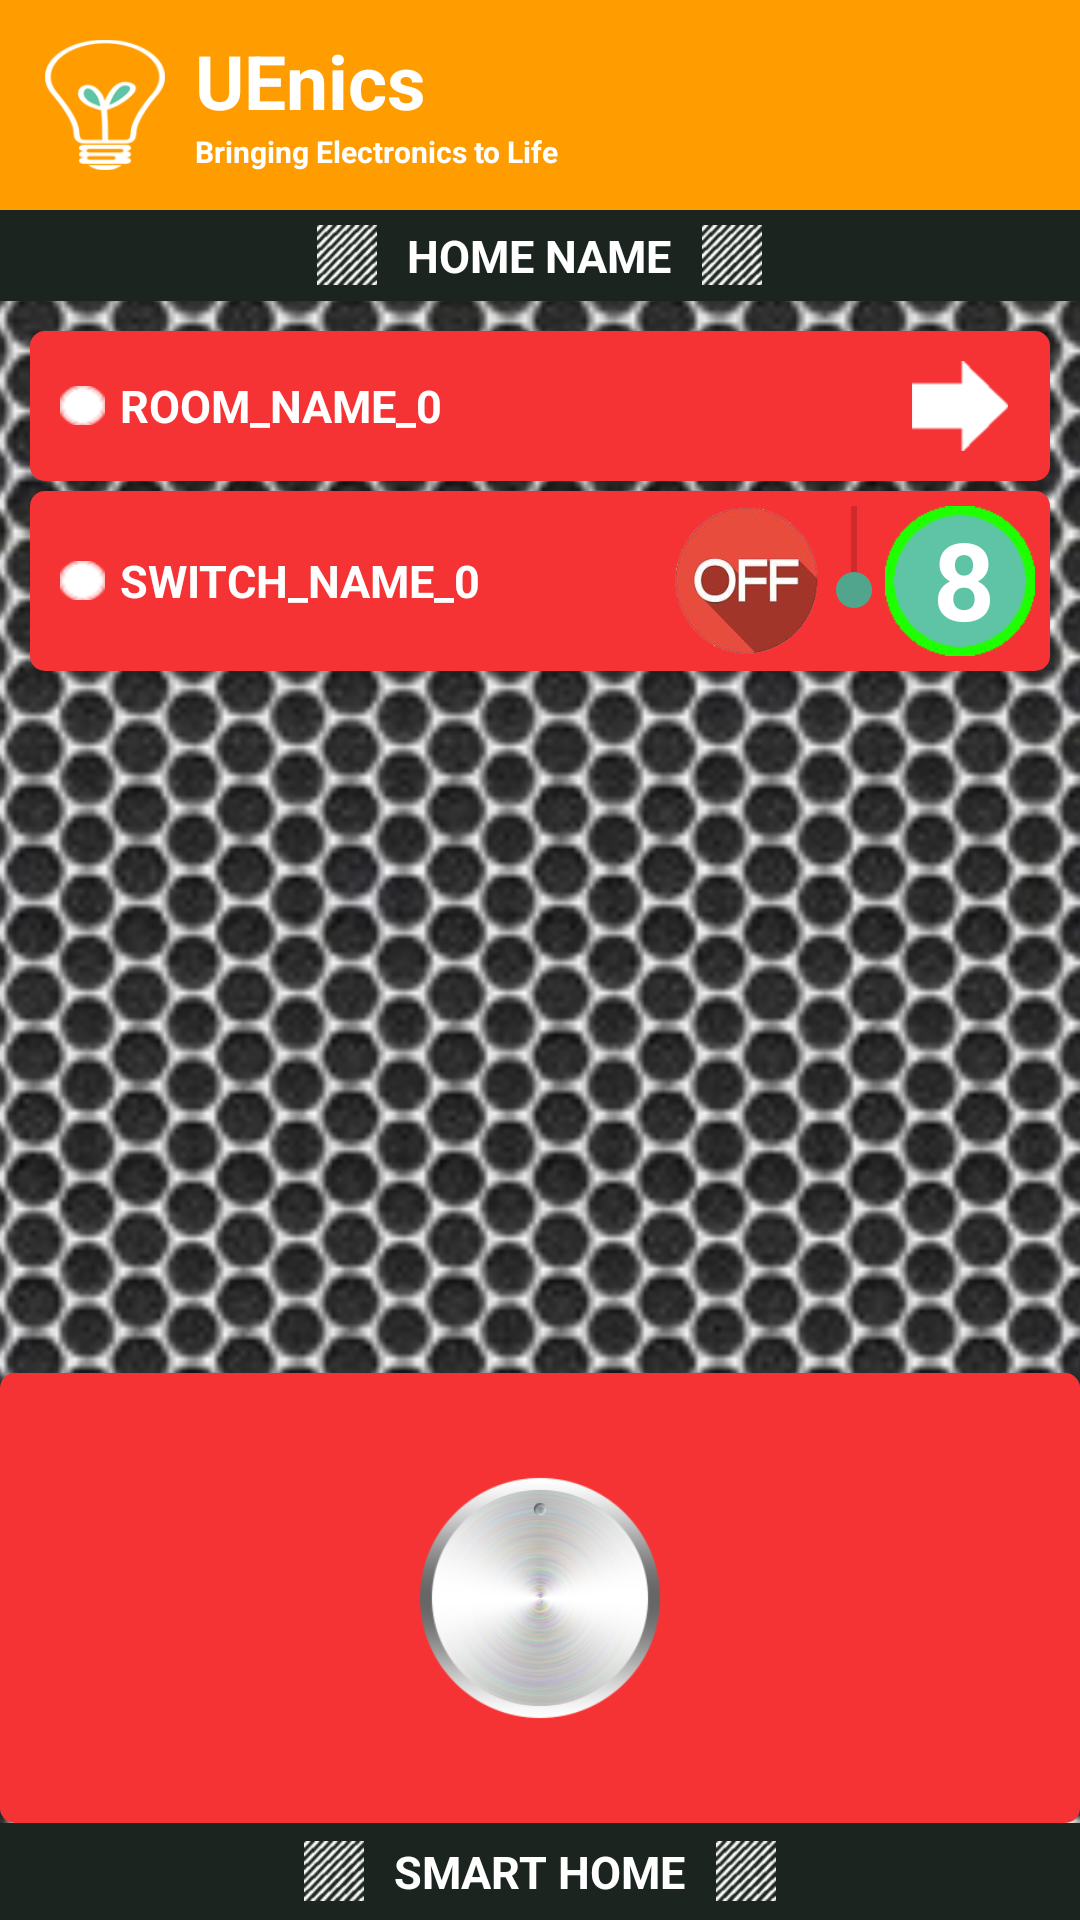

Point at icon controls on the screen. Image size 1080x1920, points as (x=x, y=y).
next: (x=960, y=406)
regulator: (x=540, y=1598)
